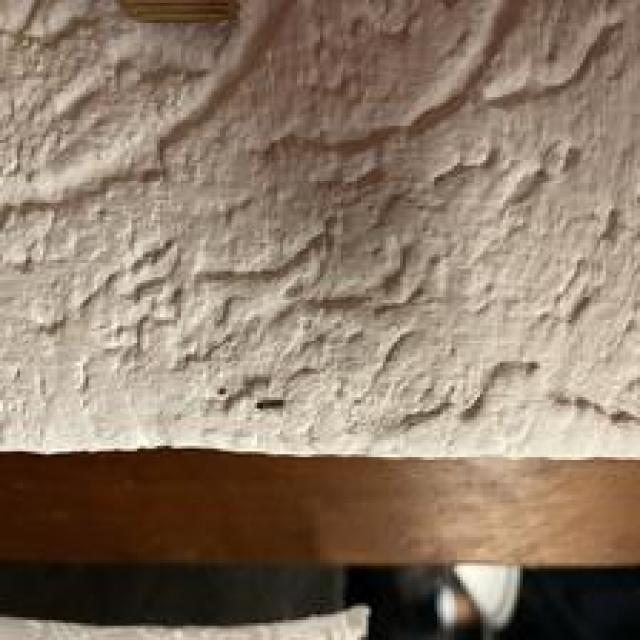Culex: (110, 0, 241, 26)
